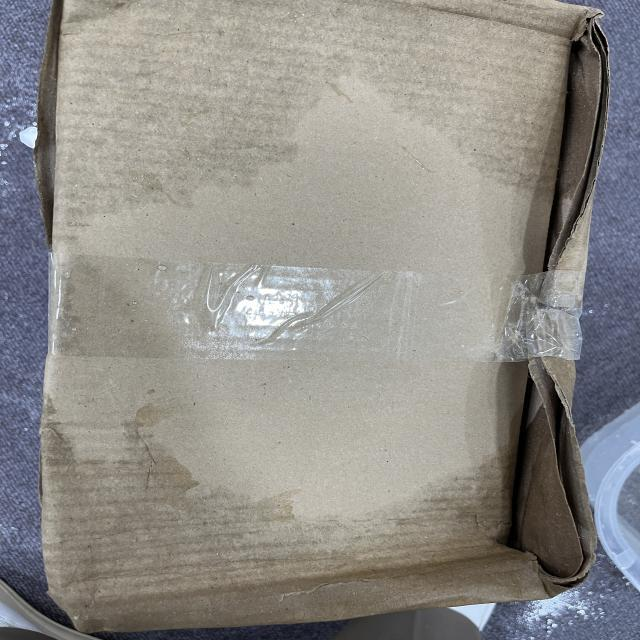wet: (63, 0, 581, 238), (42, 393, 583, 617)
